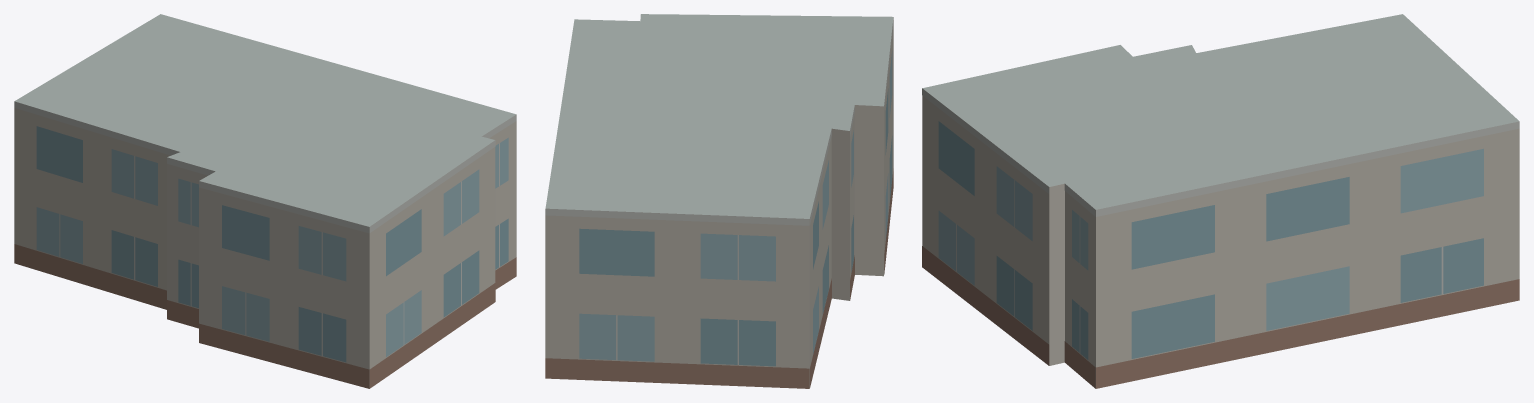
The model's file is survey-upis-32684725.glb.
The picture shows the model from 3 angles, left to right: view 1: azimuth 30°, elevation 25°; view 2: azimuth 150°, elevation 25°; view 3: azimuth 270°, elevation 25°; orthographic projection. The views are drawn at different scales.
Parts seen in each view (by area): view 1: survey-upis-32684725.tmp; view 2: survey-upis-32684725.tmp; view 3: survey-upis-32684725.tmp.
Boxes of the visible parts, bbox=[...] form: survey-upis-32684725.tmp: bbox=[14, 14, 516, 388]; survey-upis-32684725.tmp: bbox=[545, 14, 893, 388]; survey-upis-32684725.tmp: bbox=[922, 14, 1519, 388].
Bounding box in the file's own units: 14.33 × 6.1 × 18.47.
